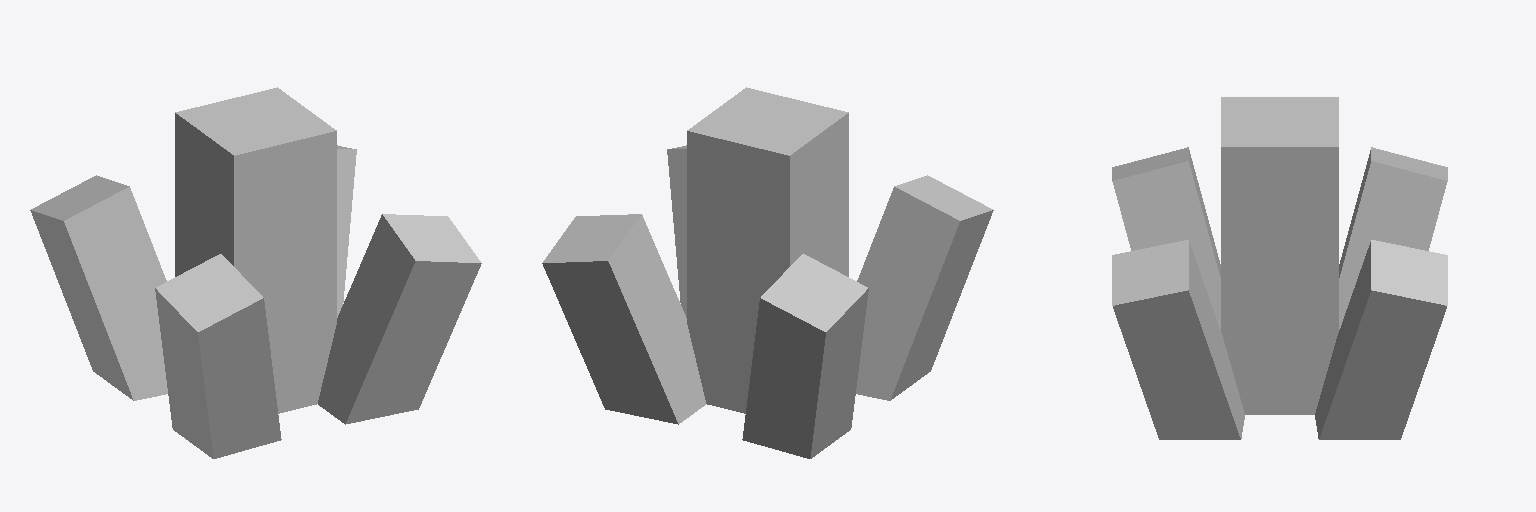
The model's file is crystal3.obj.
3 renders of one model, left to right at view 1: azimuth 30°, elevation 25°; view 2: azimuth 150°, elevation 25°; view 3: azimuth 270°, elevation 25°, orthographic.
Parts seen in each view (by area): view 1: middle_Cube.004, Cube.002, Cube, Cube.001, Cube.003; view 2: middle_Cube.004, Cube.003, Cube.001, Cube, Cube.002; view 3: middle_Cube.004, Cube.002, Cube.003, Cube, Cube.001.
Boxes of the visible parts, x1=… form: middle_Cube.004: x1=175, y1=87, x2=336, y2=413; Cube.002: x1=318, y1=214, x2=481, y2=424; Cube: x1=30, y1=175, x2=167, y2=400; Cube.001: x1=155, y1=254, x2=281, y2=458; Cube.003: x1=337, y1=145, x2=356, y2=317; middle_Cube.004: x1=687, y1=87, x2=848, y2=413; Cube.003: x1=542, y1=214, x2=705, y2=424; Cube.001: x1=856, y1=175, x2=993, y2=400; Cube: x1=742, y1=254, x2=868, y2=458; Cube.002: x1=667, y1=145, x2=686, y2=317; middle_Cube.004: x1=1221, y1=97, x2=1338, y2=414; Cube.002: x1=1112, y1=240, x2=1244, y2=439; Cube.003: x1=1315, y1=240, x2=1447, y2=439; Cube: x1=1339, y1=147, x2=1447, y2=329; Cube.001: x1=1112, y1=147, x2=1220, y2=329.
Bounding box in the file's own units: 0.8566 × 0.75 × 0.8485.